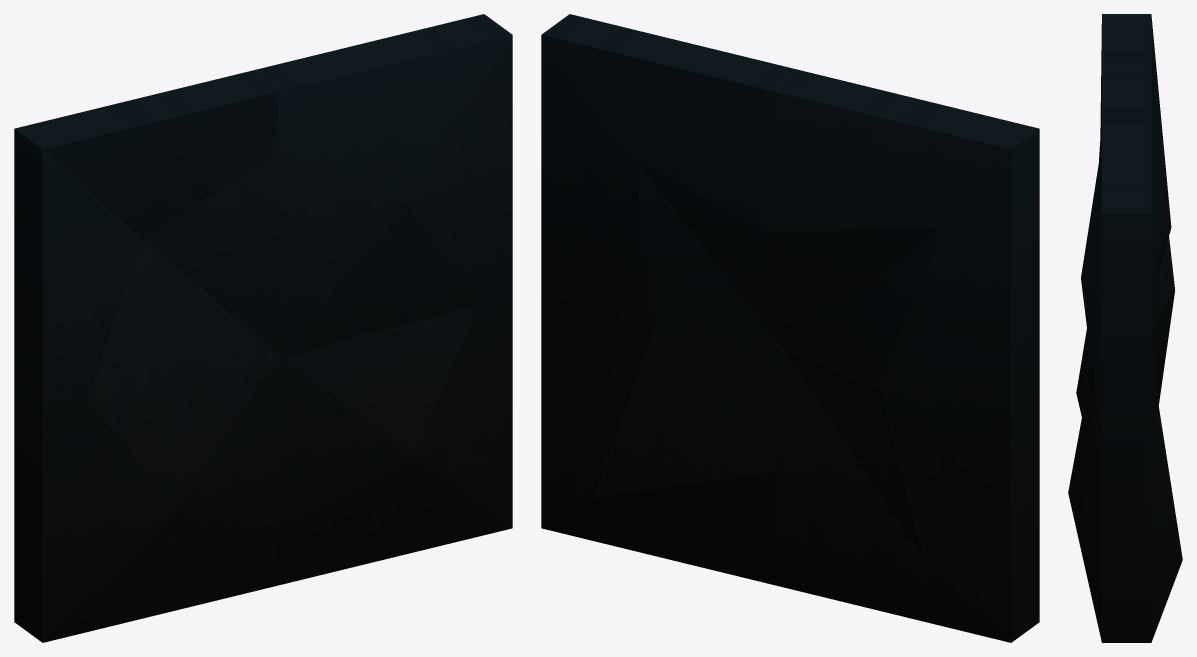
File: MOD_HoleWall_Connector.fbx
3 views of the same model, side by side, from view 1: azimuth 30°, elevation 25°; view 2: azimuth 150°, elevation 25°; view 3: azimuth 270°, elevation 25° (orthographic). The views are drawn at different scales.
Parts seen in each view (by area): view 1: MOD_HoleWall_Connector; view 2: MOD_HoleWall_Connector; view 3: MOD_HoleWall_Connector.
Part boxes in pixels (x1=…): MOD_HoleWall_Connector: x1=14, y1=14, x2=512, y2=642; MOD_HoleWall_Connector: x1=541, y1=14, x2=1039, y2=642; MOD_HoleWall_Connector: x1=1068, y1=14, x2=1182, y2=642.
Bounding box in the file's own units: 6.13 × 6.16 × 1.49.
1 material, 1 textured.
